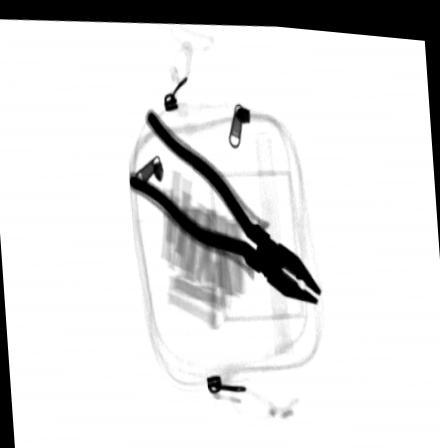Pliers: (127, 103, 321, 299)
